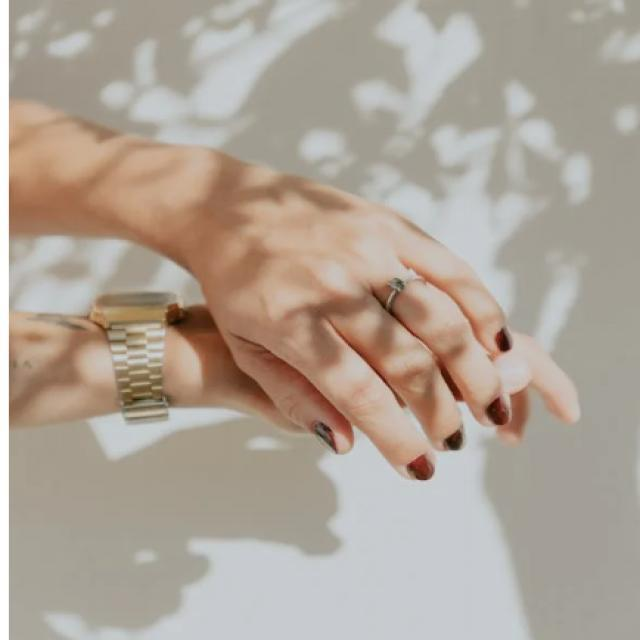Watch: (86, 284, 190, 424)
